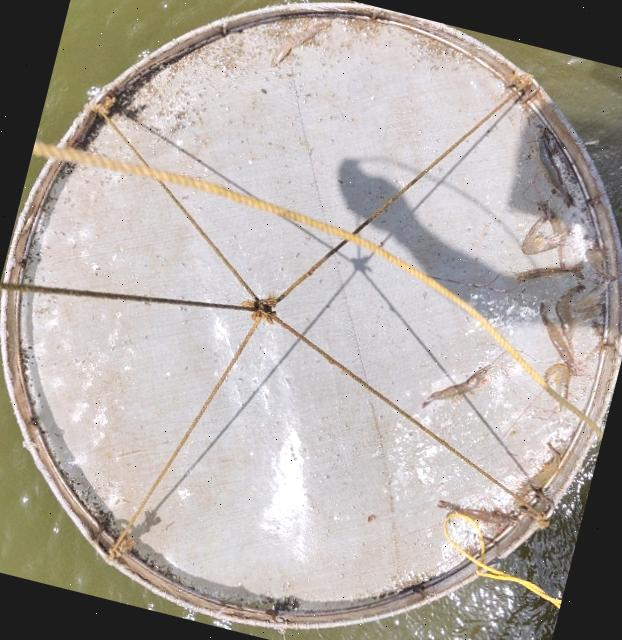shrimp: (423, 365, 491, 407), (271, 23, 332, 67), (539, 138, 576, 209), (541, 303, 577, 373), (518, 443, 563, 498), (436, 499, 519, 523), (522, 215, 570, 255), (557, 285, 586, 350), (539, 201, 567, 268), (516, 262, 585, 285), (587, 245, 617, 282), (545, 364, 572, 400)
